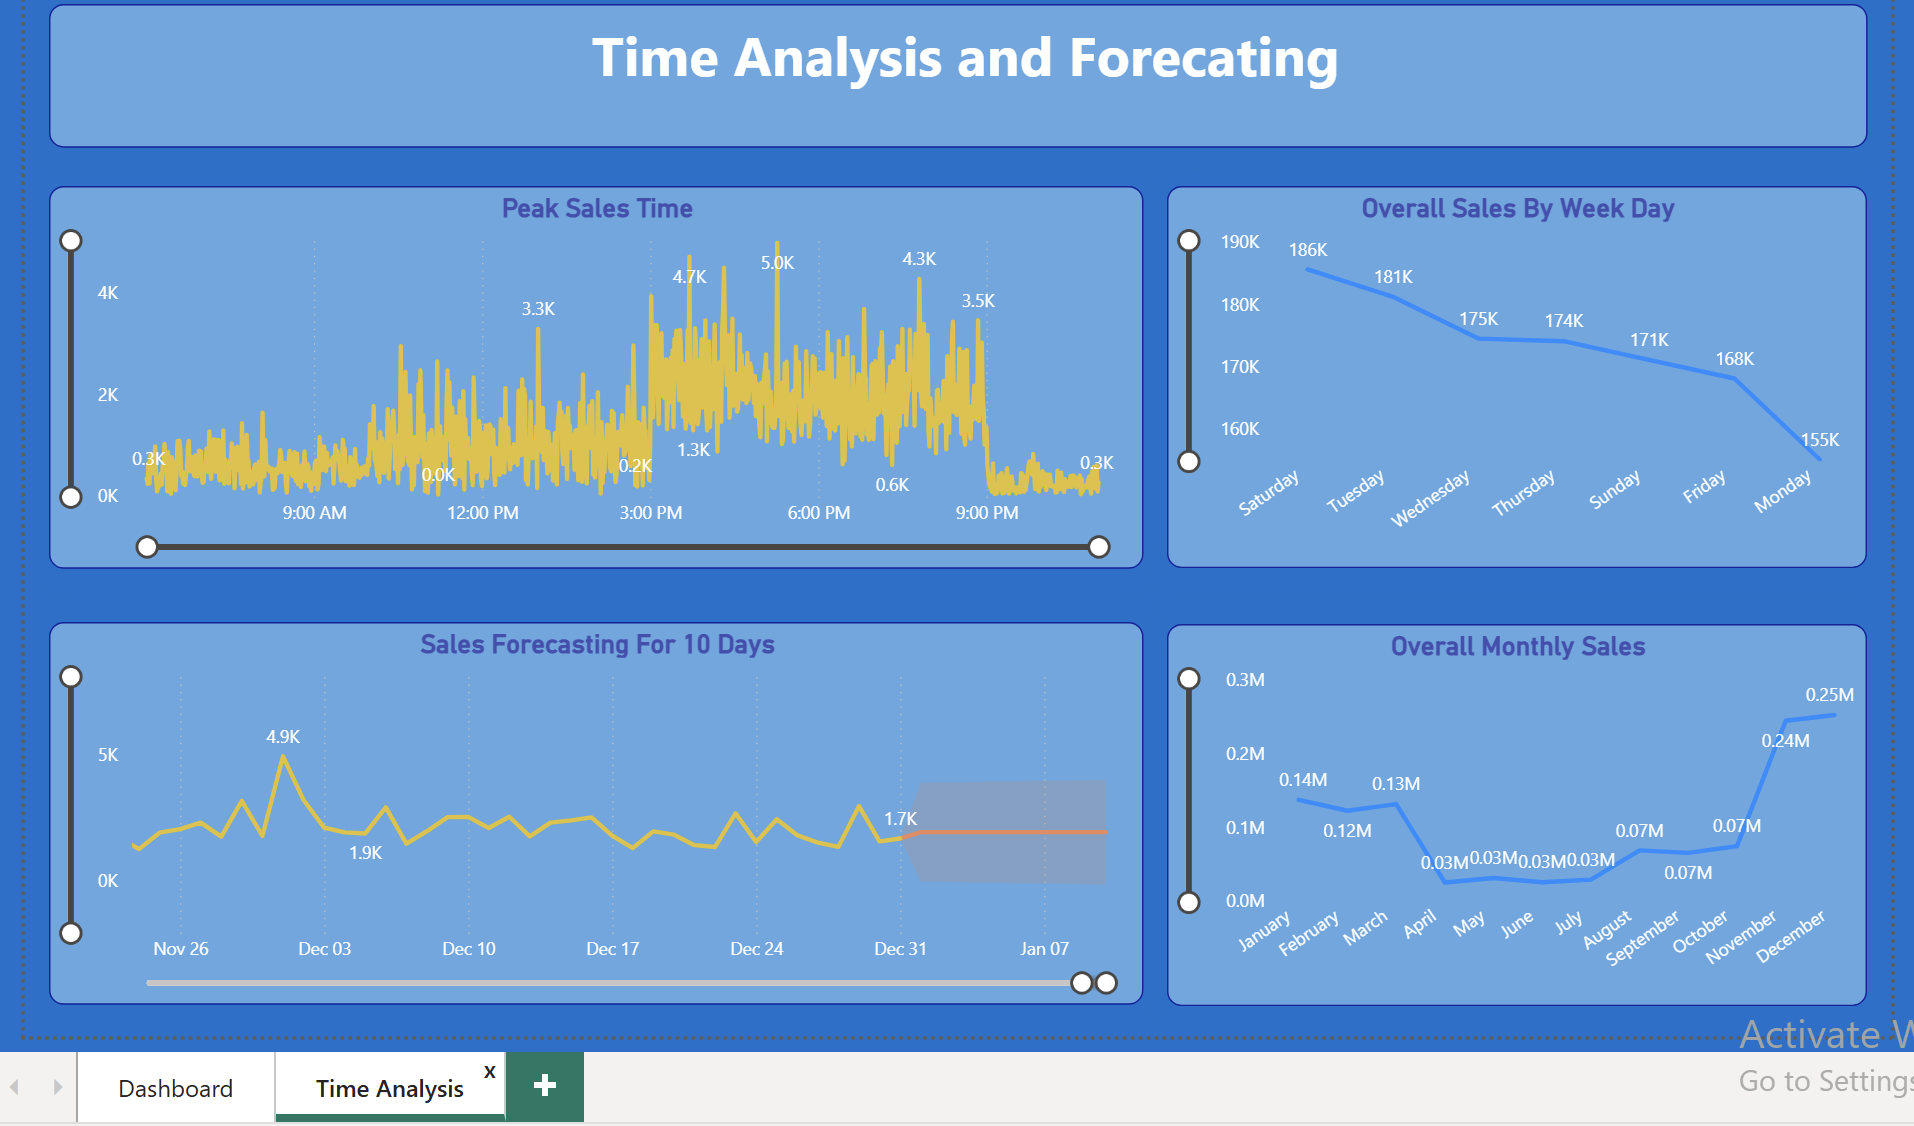

What the dashboard file says about the page in this screenshot:
{"tool":"powerbi","page":{"name":"Time Analysis","canvas":[1280,720],"ordinal":1},"visuals":[{"type":"textbox","box":[17.1,12.9,1247.1,98.6],"z":0},{"type":"lineChart","title":"Peak Sales Time ","fields":{"Category":["walmart_cleaned_data.time"],"Y":["Sum(walmart_cleaned_data.total price)"]},"box":[16.7,136.5,750.7,262.4],"z":1000},{"type":"lineChart","title":"Overall Sales By Week Day","fields":{"Category":["walmart_cleaned_data.Day_of_Week"],"Y":["Sum(walmart_cleaned_data.total price)"]},"box":[783.1,137.1,480,261.9],"z":2000},{"type":"lineChart","title":"Sales Forecasting For 10 Days","fields":{"Y":["Sum(walmart_cleaned_data.total price)"],"Category":["walmart_cleaned_data.date"]},"box":[16.7,436.8,750.7,262.4],"z":3000},{"type":"lineChart","title":"Overall Monthly Sales","fields":{"Category":["walmart_cleaned_data.date.Variation.Date Hierarchy.Month"],"Y":["Sum(walmart_cleaned_data.total price)"]},"box":[783,437,480,262],"z":4000}]}

Visuals, with their boxes in screenshot pixels (x1, y1, x2, y2):
textbox: Rect(55, 0, 1894, 140)
"Peak Sales Time " lineChart: Rect(55, 176, 1162, 563)
"Overall Sales By Week Day" lineChart: Rect(1185, 177, 1893, 563)
"Sales Forecasting For 10 Days" lineChart: Rect(55, 619, 1162, 1006)
"Overall Monthly Sales" lineChart: Rect(1185, 619, 1892, 1006)
